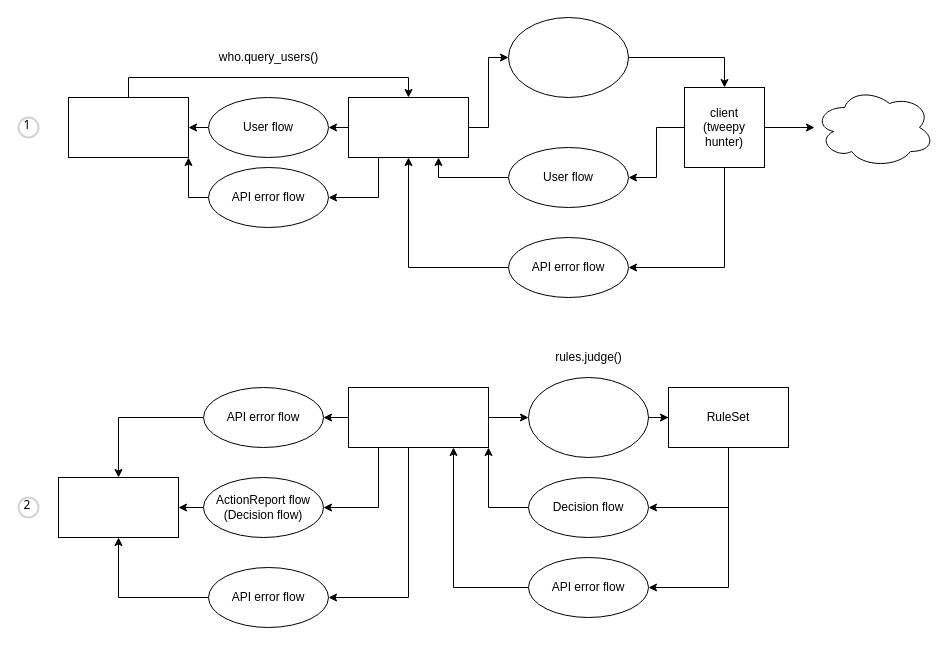
The diagram is 952 pixels wide and 645 high, and some of its shapes have lost their labels. Each missing label, with the centre of its shape:
"Context flow (User flow)" goes at (588,417).
"Hunting Plan: print to report" goes at (118,507).
"info for quering user, flow" goes at (568,57).
"Twitter" goes at (874,127).
"User Selecting Rule" goes at (128,127).
"User Selecting Rule: action.execute(decision)" goes at (418,417).
"Who Field" goes at (408,127).
